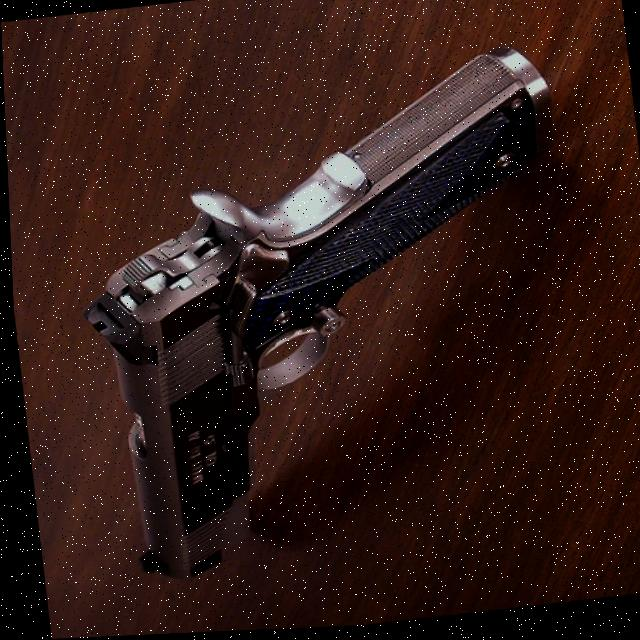pistol: (51, 43, 601, 592)
